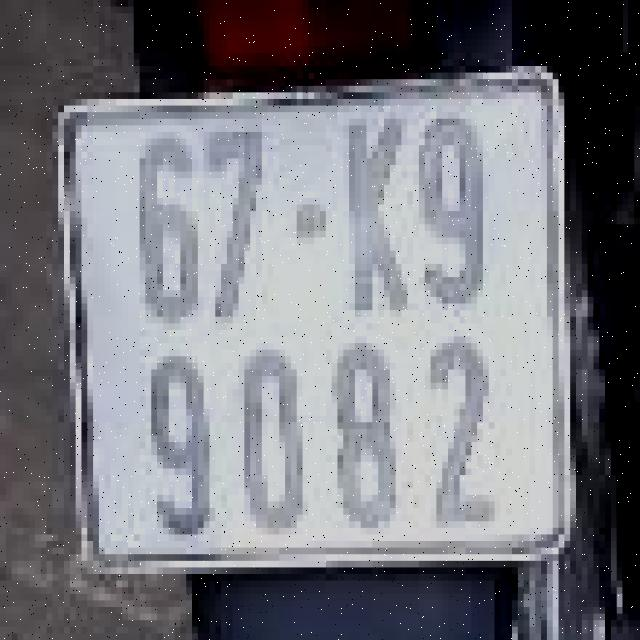0: (236, 327, 306, 544)
2: (416, 327, 503, 531)
6: (125, 122, 207, 320)
7: (200, 109, 270, 326)
8: (320, 340, 407, 544)
9: (128, 346, 221, 544), (416, 106, 492, 316)
K: (338, 102, 413, 320)
